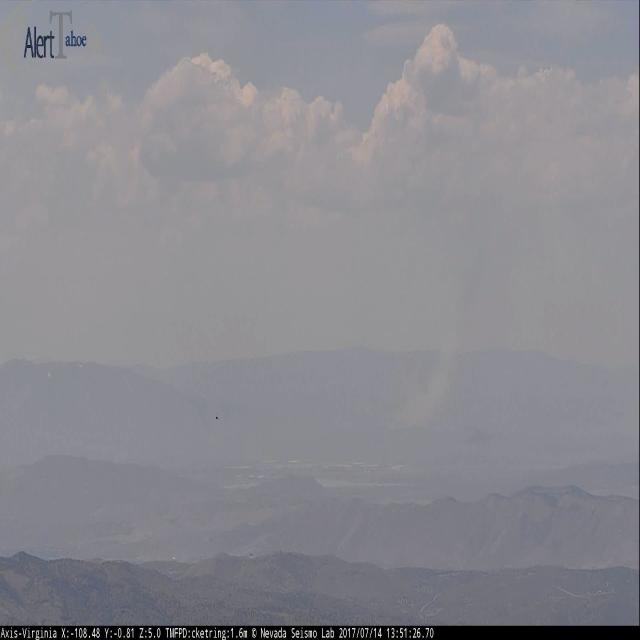smoke: (390, 321, 455, 428)
